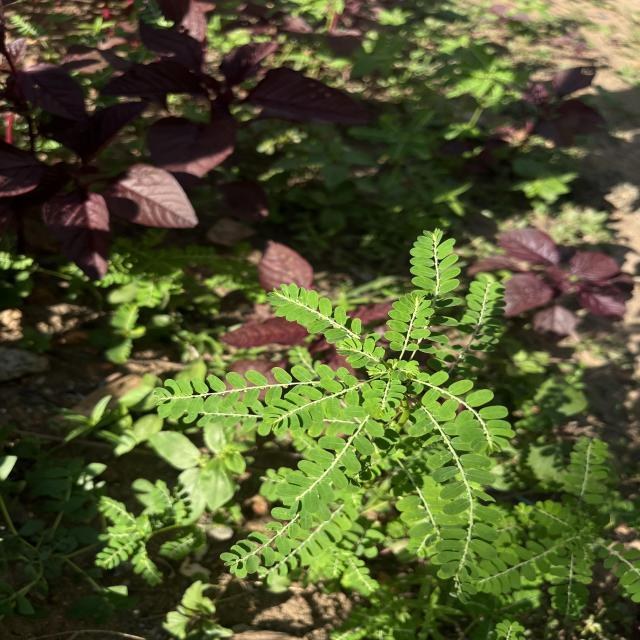Phyllanthus niruri: (420, 421, 502, 583), (148, 363, 352, 418), (271, 421, 385, 512), (408, 370, 516, 457), (263, 280, 363, 344), (266, 378, 358, 432), (408, 224, 463, 294), (385, 290, 432, 353), (361, 376, 406, 420)
